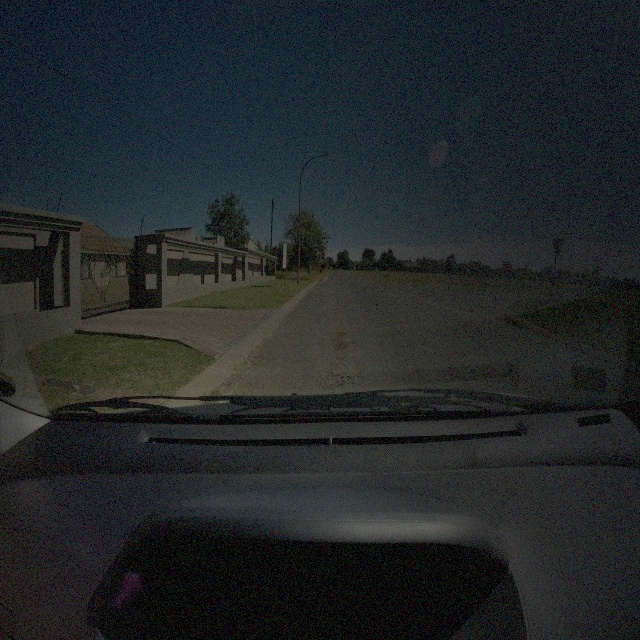pothole: (335, 342, 356, 353), (338, 335, 347, 338)
